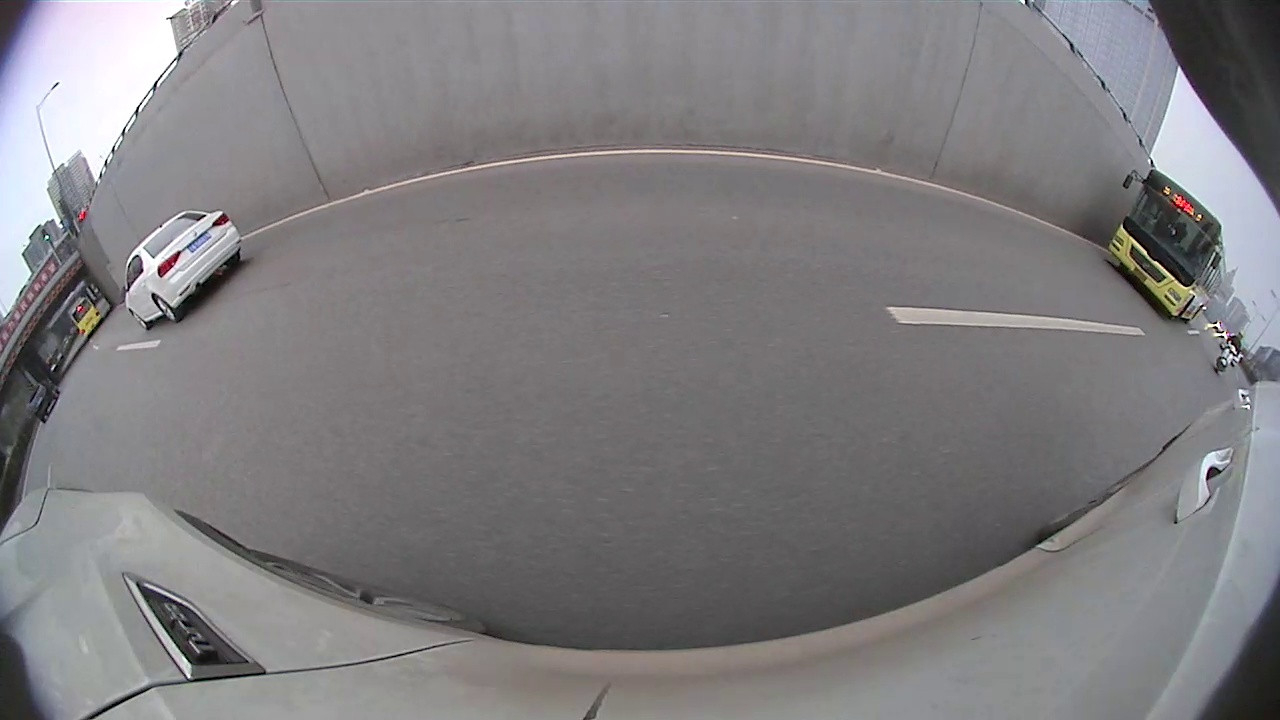bus: (1105, 167, 1228, 325)
car: (123, 209, 245, 334)
front: (128, 307, 152, 332)
rear: (149, 290, 184, 326), (222, 246, 245, 272)
rider: (1210, 331, 1247, 371)
